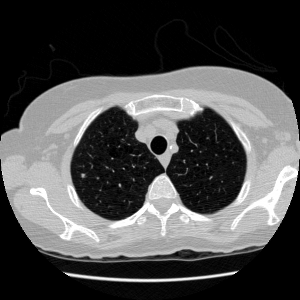nodule: (81, 173, 85, 177)
